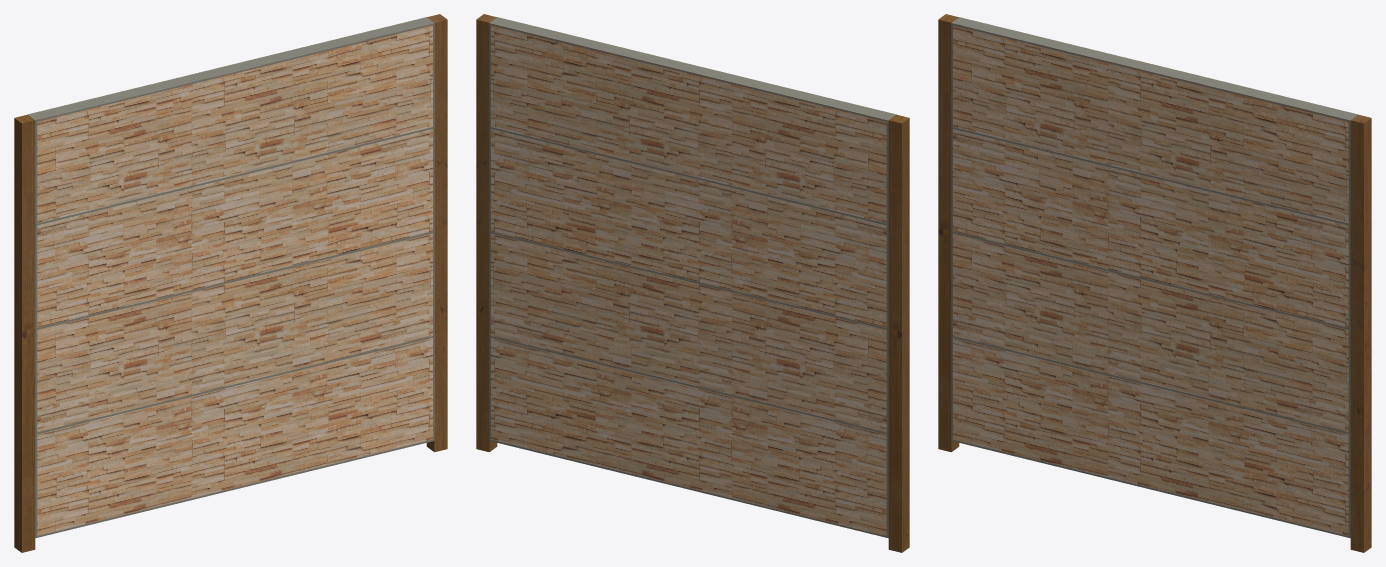
Rendered from ABF1-H1800_randomstonebrown.fbx.
The picture shows the model from 3 angles, left to right: view 1: azimuth 30°, elevation 25°; view 2: azimuth 150°, elevation 25°; view 3: azimuth 330°, elevation 25°; orthographic projection.
Parts seen in each view (by area): view 1: 1850-1920-60_randomstone brown; view 2: 1850-1920-60_randomstone brown; view 3: 1850-1920-60_randomstone brown.
Part boxes in pixels (bbox=[...]): 1850-1920-60_randomstone brown: bbox=[14, 14, 447, 552]; 1850-1920-60_randomstone brown: bbox=[476, 14, 909, 552]; 1850-1920-60_randomstone brown: bbox=[938, 14, 1371, 552].
Size of the model in its own units: 192 by 185 by 6.4.
5 materials, 4 textured.
